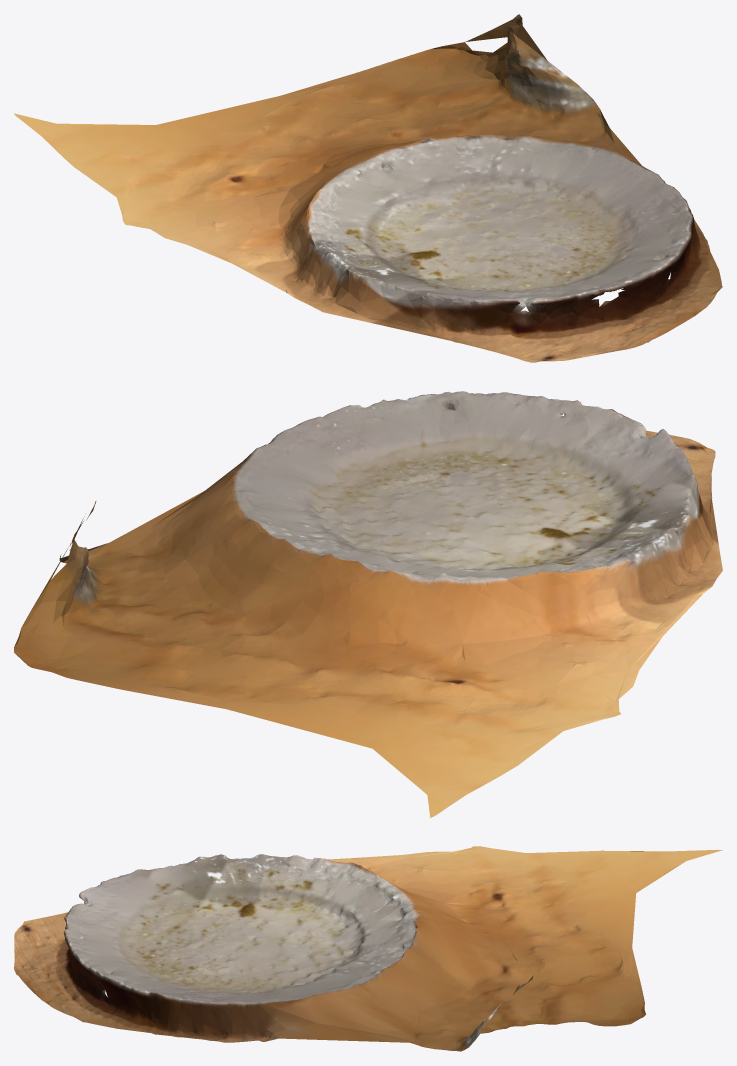
3 renders of one model, top to bottom at view 1: azimuth 30°, elevation 25°; view 2: azimuth 150°, elevation 25°; view 3: azimuth 270°, elevation 25°, orthographic. The views are drawn at different scales.
Size of the model in its own units: 0.2943 by 0.0623 by 0.4174.
1 material, 1 textured.
